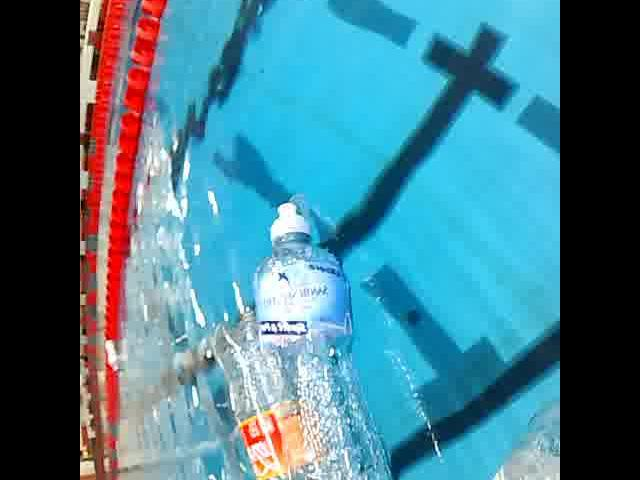Bottle: (246, 188, 402, 480), (204, 296, 354, 480), (413, 391, 560, 480), (102, 334, 128, 376)
